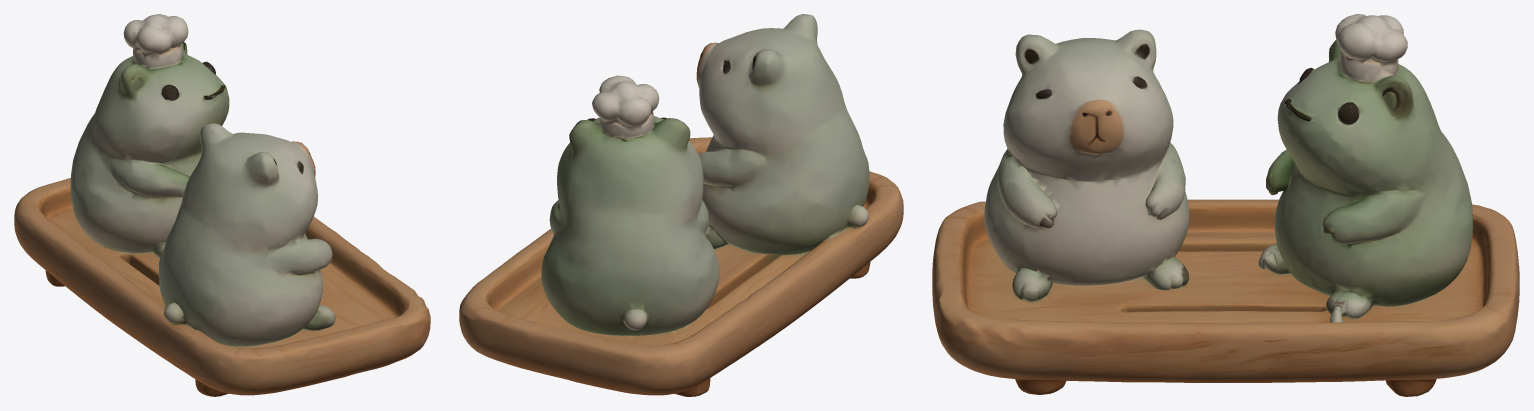
The model's file is discovery-toad.glb.
The picture shows the model from 3 angles, left to right: view 1: azimuth 30°, elevation 25°; view 2: azimuth 150°, elevation 25°; view 3: azimuth 270°, elevation 25°; orthographic projection. The views are drawn at different scales.
Visible parts, largest first — view 1: tripo_node_18cfceec-2f30-4ef5-a84c-f2a4ed54a16a; view 2: tripo_node_18cfceec-2f30-4ef5-a84c-f2a4ed54a16a; view 3: tripo_node_18cfceec-2f30-4ef5-a84c-f2a4ed54a16a.
Part boxes in pixels (x1,y1,x2,y2): tripo_node_18cfceec-2f30-4ef5-a84c-f2a4ed54a16a: [14, 14, 430, 396]; tripo_node_18cfceec-2f30-4ef5-a84c-f2a4ed54a16a: [459, 14, 903, 396]; tripo_node_18cfceec-2f30-4ef5-a84c-f2a4ed54a16a: [932, 14, 1519, 396].
Bounding box in the file's own units: 0.5556 × 0.597 × 1.
Materials: 1 (1 with a texture image).
